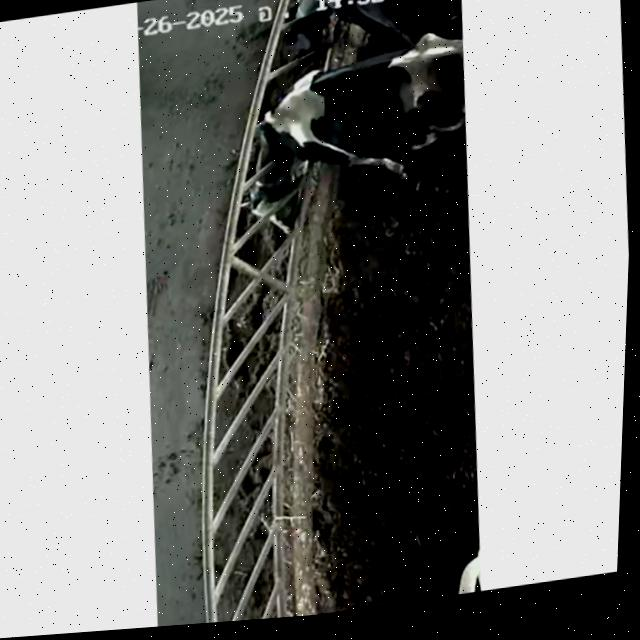eat: (198, 70, 401, 240), (232, 0, 449, 60)
